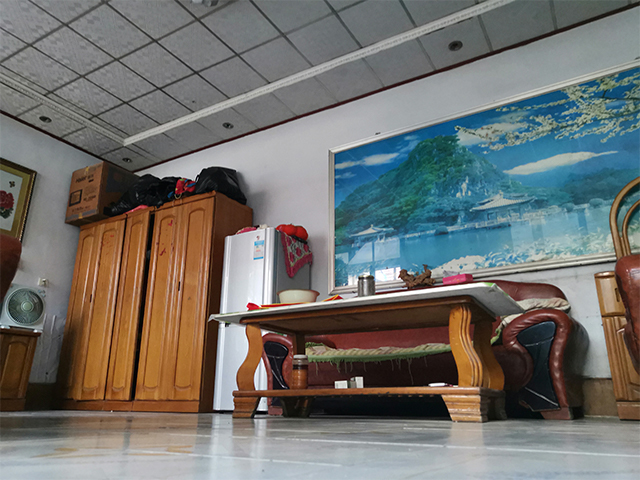cabinet: (50, 188, 259, 415), (1, 324, 43, 412)
sofa: (258, 277, 592, 420)
table: (204, 280, 528, 424)
